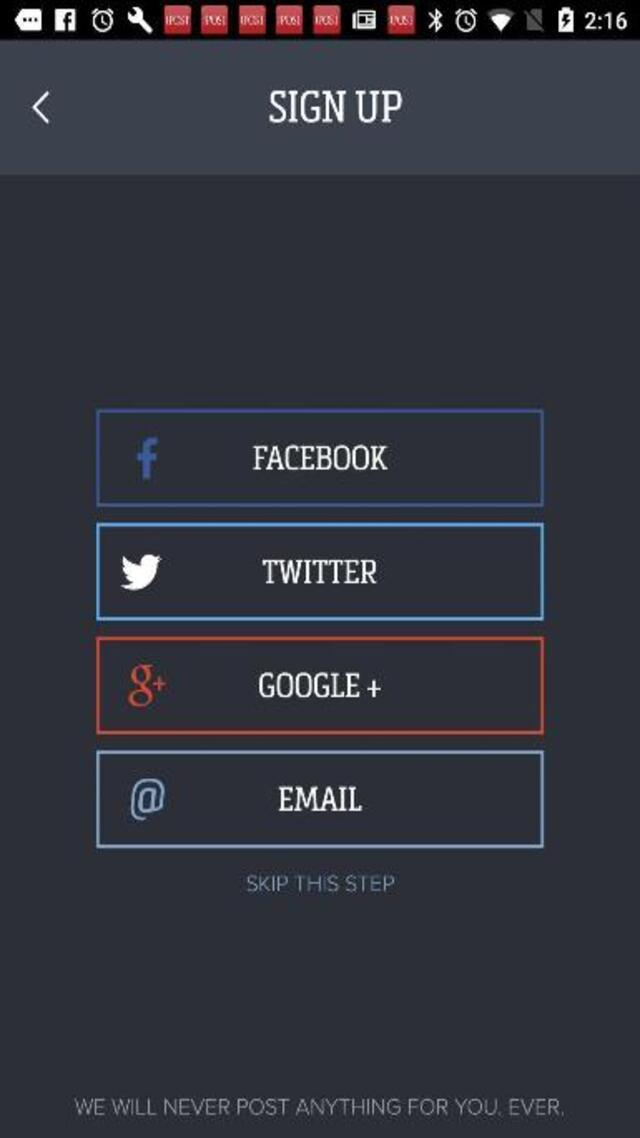Icon: (118, 547, 164, 593), (124, 662, 167, 710), (129, 775, 169, 822), (132, 433, 162, 481), (31, 90, 49, 124)
Text: (74, 1098, 564, 1114), (270, 90, 402, 124), (252, 443, 389, 473), (257, 670, 382, 702), (260, 556, 379, 587), (244, 872, 398, 894), (276, 784, 364, 815)
TextButton: (94, 636, 544, 734), (94, 523, 544, 621), (94, 410, 544, 508), (94, 750, 544, 847)
